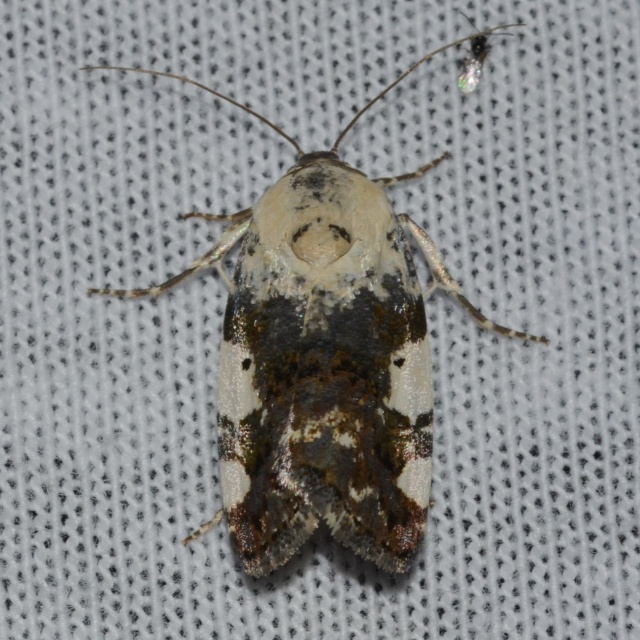Moths and butterflies: (74, 22, 552, 580)
